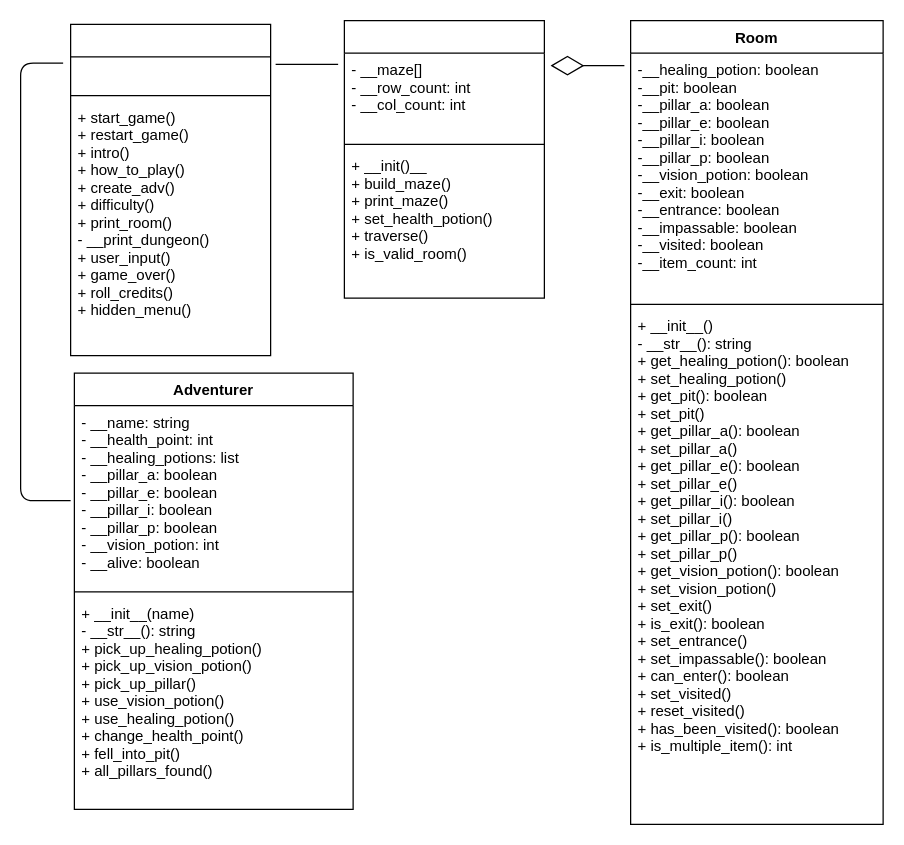
Some shapes in this 904 by 845 pixel diagram are drawn without their labels. The box of each missing label's shape, as (x1, y1, x2, y2) in pixels:
Dungeon: (343, 19, 544, 298)
Dungeon Adventure: (69, 23, 271, 356)
